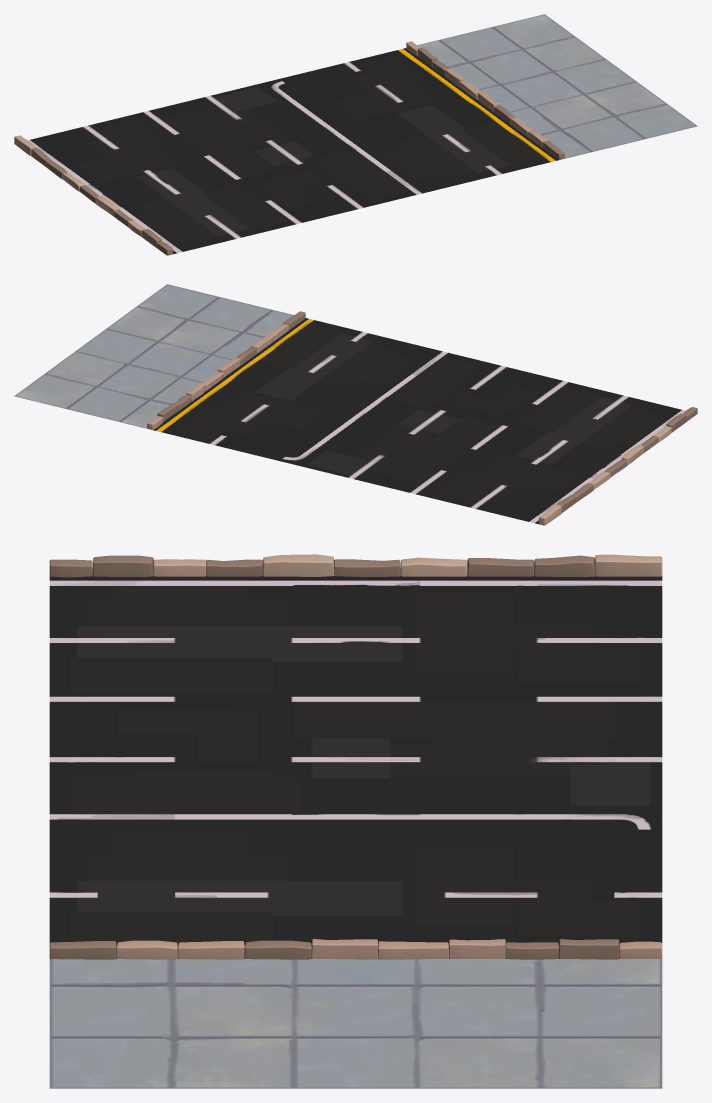
Rendered from CityRoad_tile_busStop_clear.fbx.
3 views of the same model, one above another, from view 1: azimuth 30°, elevation 25°; view 2: azimuth 150°, elevation 25°; view 3: azimuth 270°, elevation 25° (orthographic). The views are drawn at different scales.
Parts seen in each view (by area): view 1: CityRoad_tile_busStop_clear_mesh; view 2: CityRoad_tile_busStop_clear_mesh; view 3: CityRoad_tile_busStop_clear_mesh.
Boxes of the visible parts, x1,y1,x2,y2 form: CityRoad_tile_busStop_clear_mesh: (14,14,697,255); CityRoad_tile_busStop_clear_mesh: (14,284,697,525); CityRoad_tile_busStop_clear_mesh: (49,554,662,1088).
Size of the model in its own units: 2006 by 28.55 by 1000.
